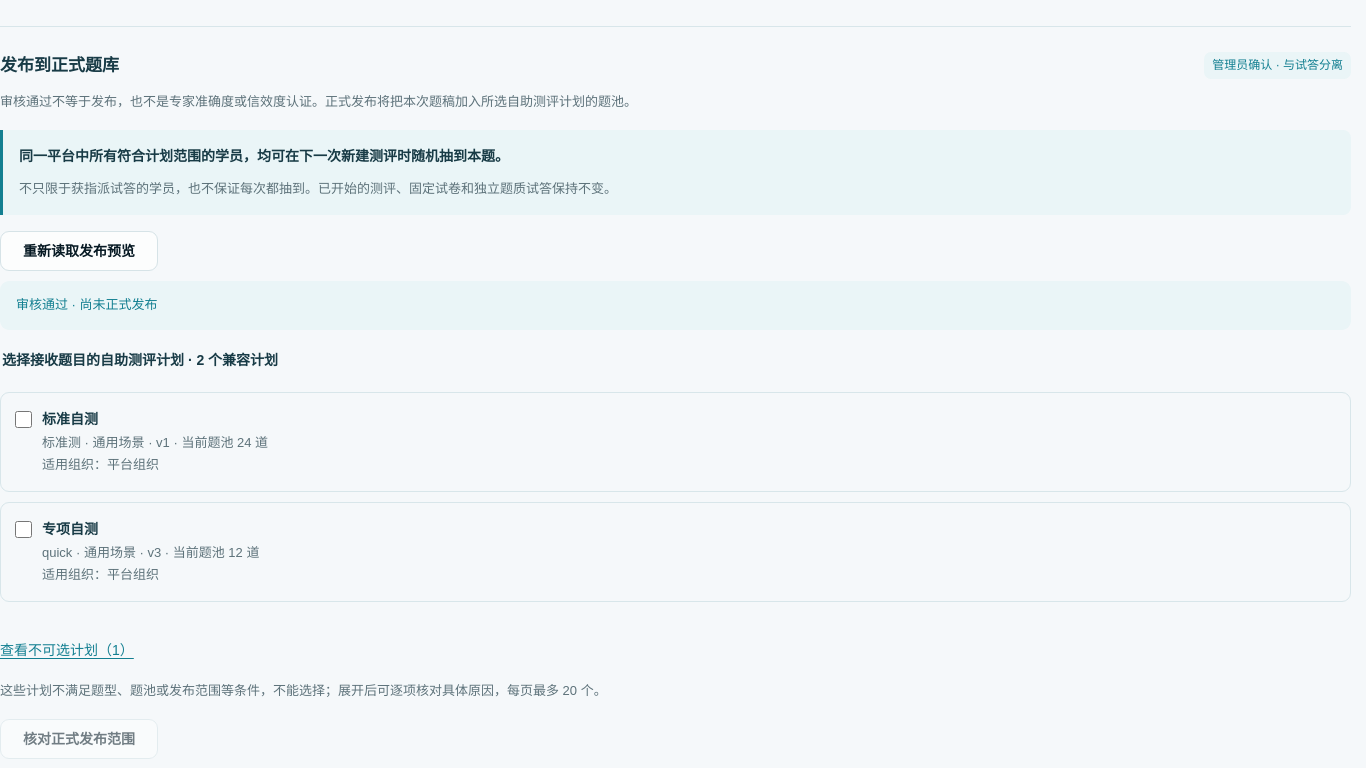
Test: formal review publication › requires explicit compatible plan selection and confirmation, then displays the receipt
Step 1. Click the button with test id "publication-excluded-toggle" → (67, 650), box [0,630,134,670]
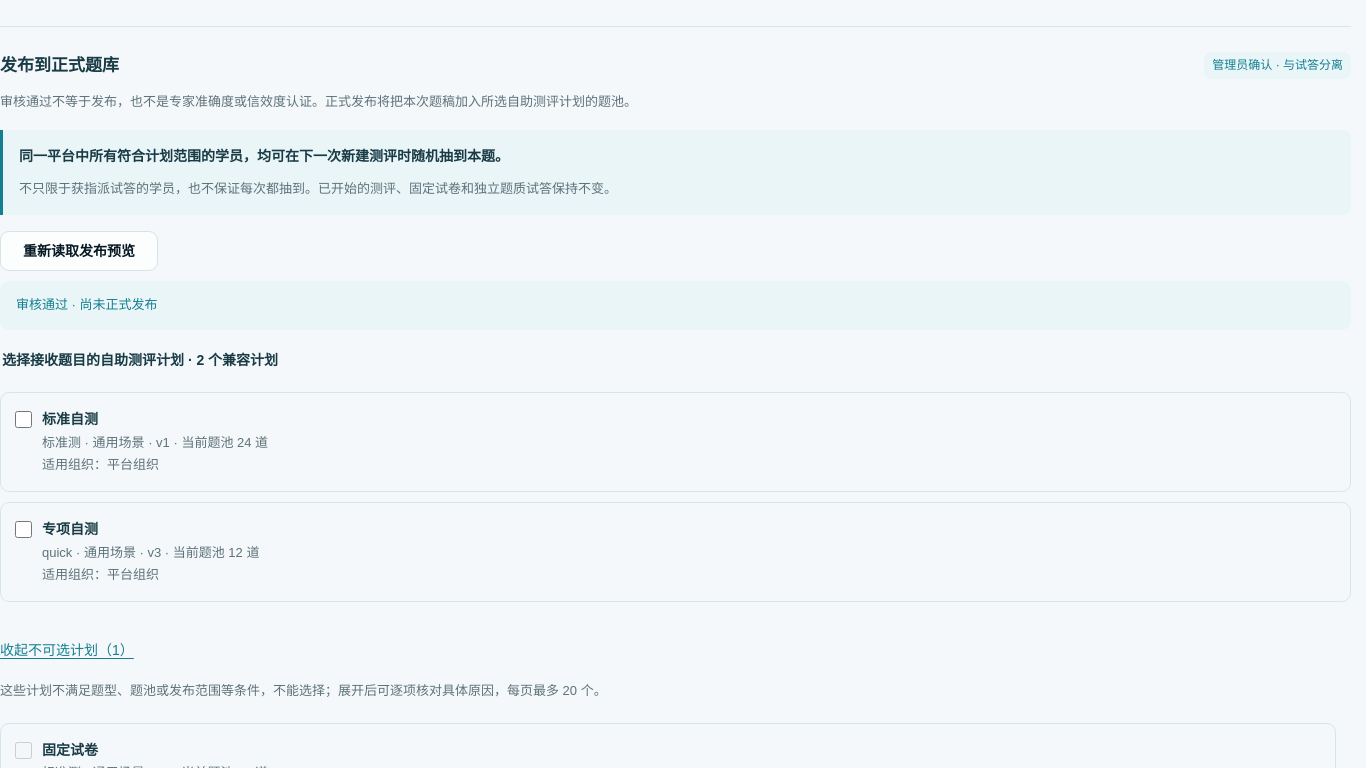
Expected: the text "24 道" is shown, [42,434,268,450]
Expected: the checkbox with test id "publication-target-fixed-plan" is disabled, [15,742,32,759]
Step 2. Click the checkbox with test id "publication-target-plan-1" → (24, 420), box [15,411,32,428]
(page scrolled)
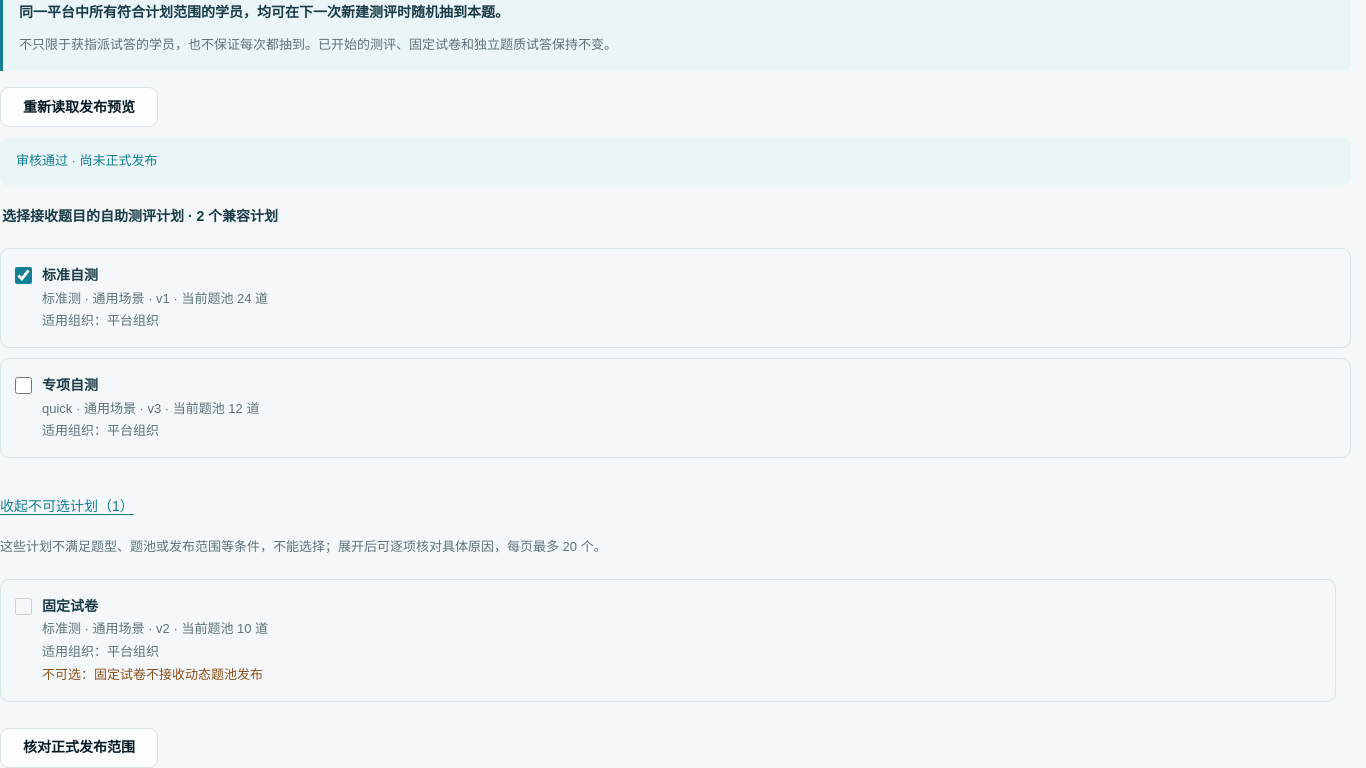
Step 3. Click the button with test id "publication-prepare" → (79, 748), box [0,728,158,767]
(page scrolled)
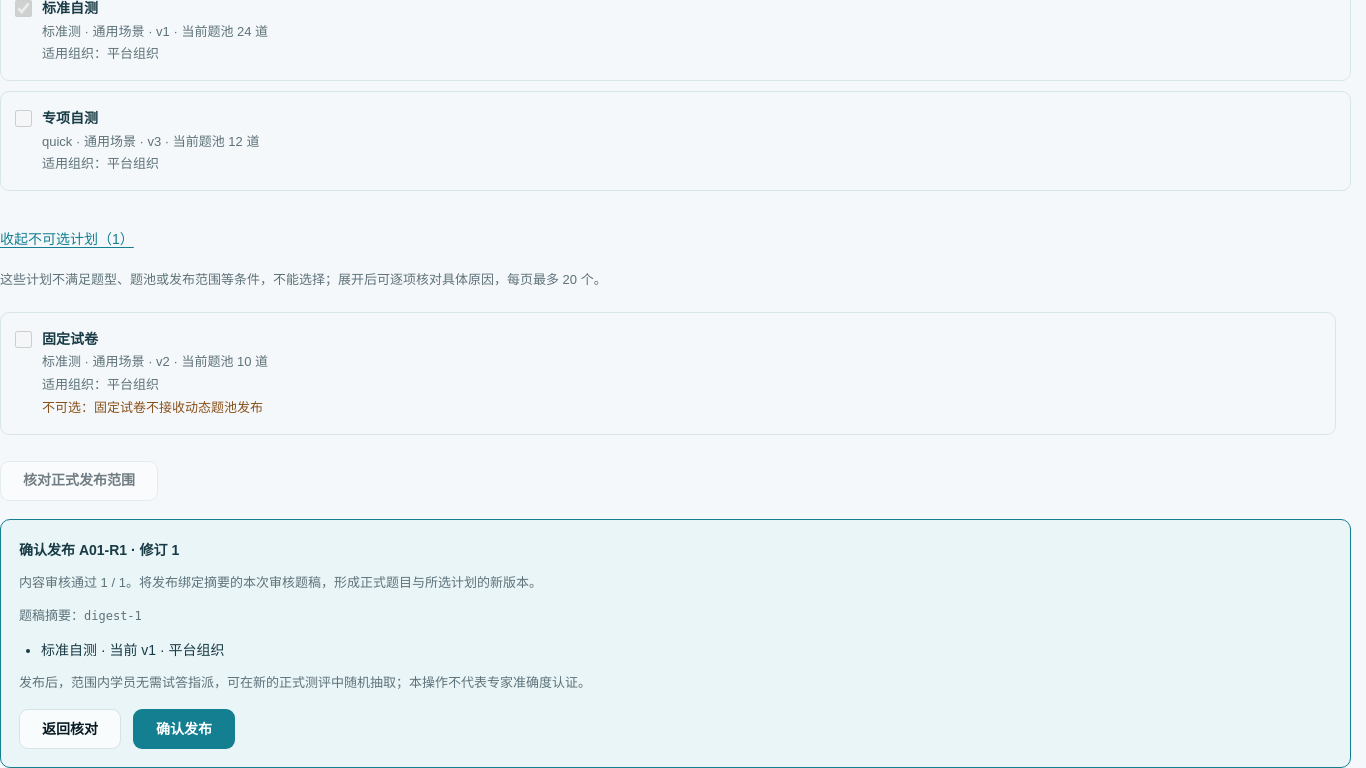
Expected: the element with test id "publication-confirmation" does not show "专项自测"
Expected: the element with test id "publication-confirmation" shows "标准自测", [41,642,225,658]
Step 4. Click the button with test id "publication-confirm" showing "确认发布" → (184, 729), box [133,709,235,749]
(page scrolled)
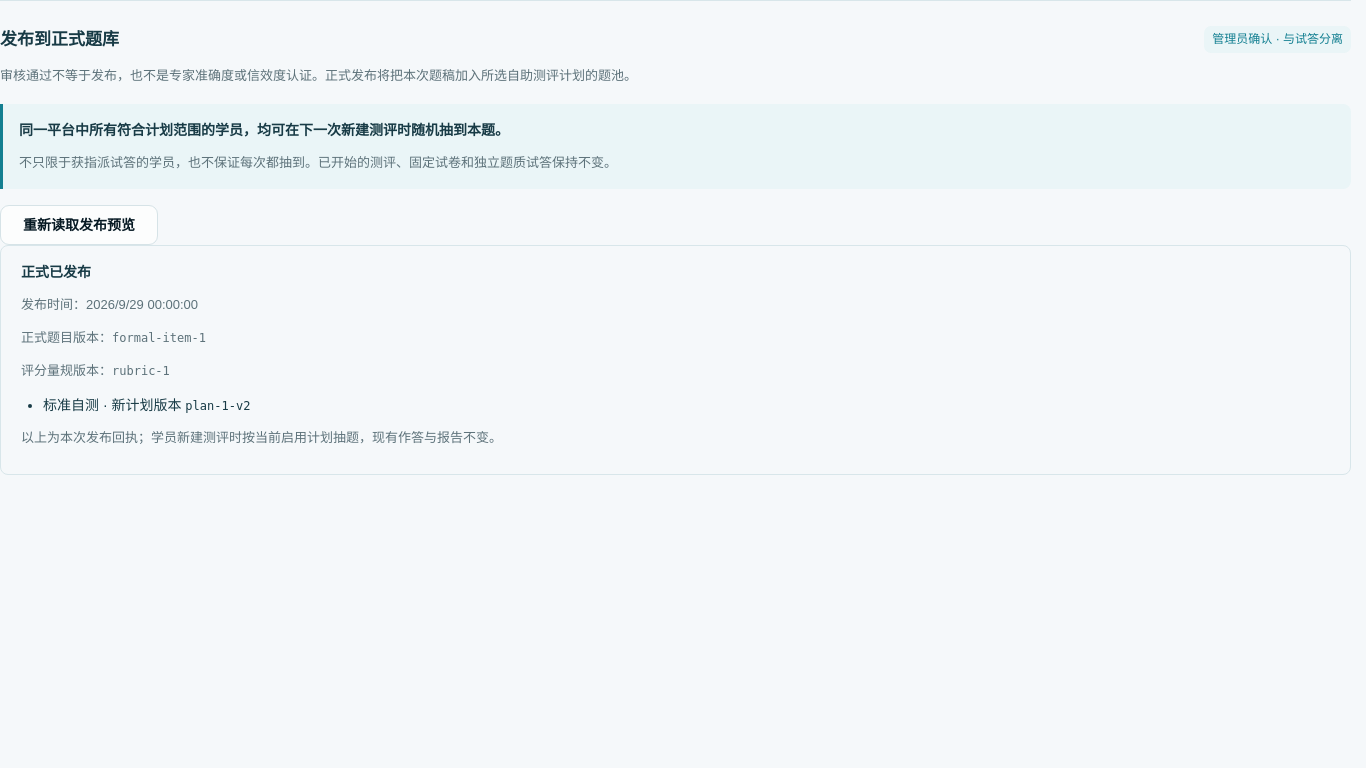
Expected: the text "正式已发布" is shown, [21,264,91,280]
Expected: the text "plan-1-v2" is shown, [185,398,250,412]
